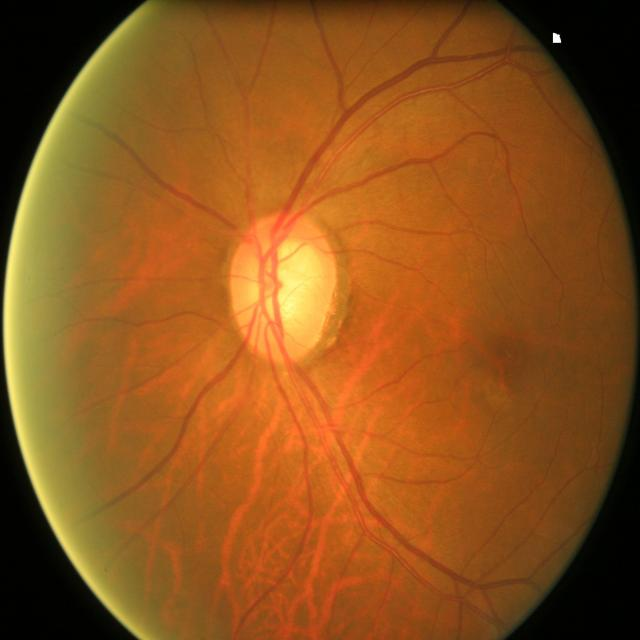OC: (248, 233, 324, 334)
OD: (229, 212, 337, 361)
